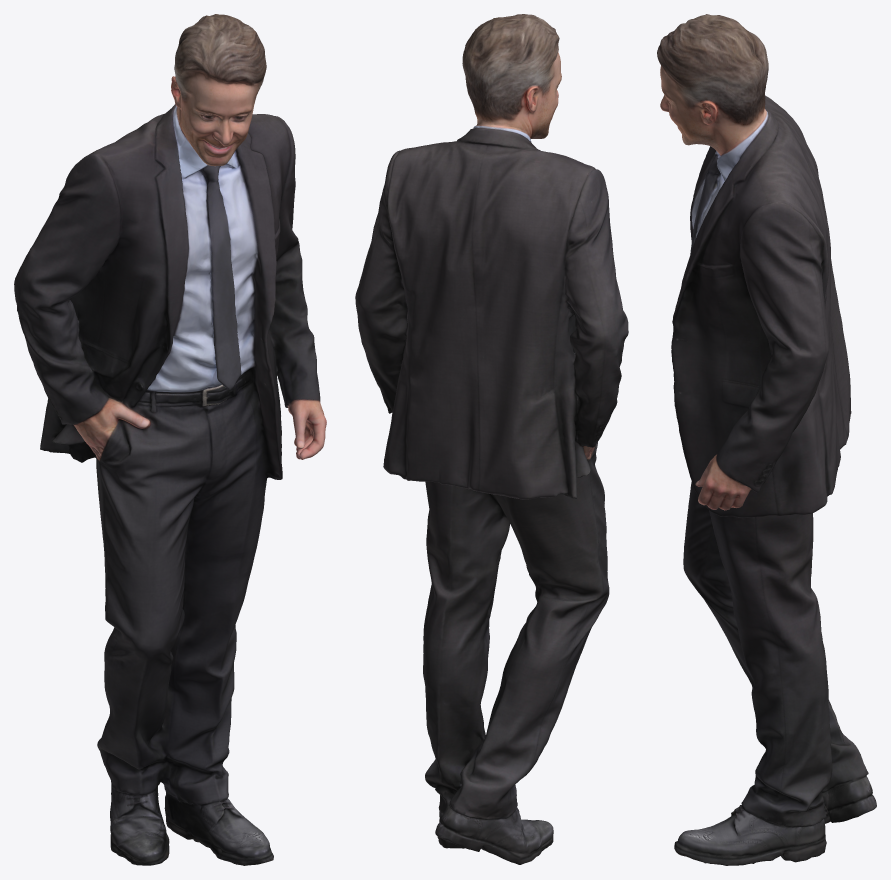
Rendered from pengamat.glb.
3 renders of one model, left to right at view 1: azimuth 30°, elevation 25°; view 2: azimuth 150°, elevation 25°; view 3: azimuth 270°, elevation 25°, orthographic. The views are drawn at different scales.
Visible parts, largest first — view 1: rp_dennis_posed_004_100k; view 2: rp_dennis_posed_004_100k; view 3: rp_dennis_posed_004_100k.
Boxes of the visible parts, left/top/right/bottom form: rp_dennis_posed_004_100k: left=14, top=14, right=326, bottom=865; rp_dennis_posed_004_100k: left=355, top=14, right=628, bottom=864; rp_dennis_posed_004_100k: left=657, top=14, right=876, bottom=865.
Bounding box in the file's own units: 1.59 × 4.63 × 1.11.
1 material, 1 textured.
